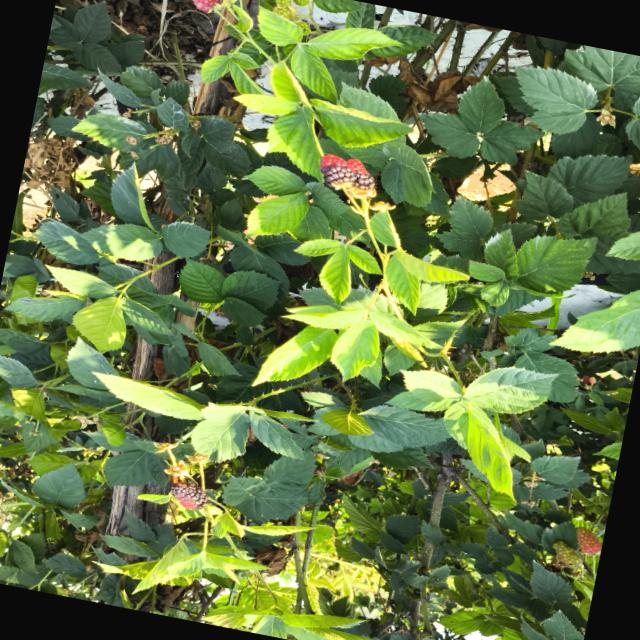marron: (319, 154, 357, 188), (171, 482, 208, 510), (353, 166, 375, 195), (348, 159, 361, 165)
naranja: (576, 527, 602, 555), (191, 0, 221, 13)
verde: (553, 541, 582, 569), (273, 6, 298, 22), (296, 21, 311, 36), (275, 0, 291, 7), (292, 0, 310, 6)
